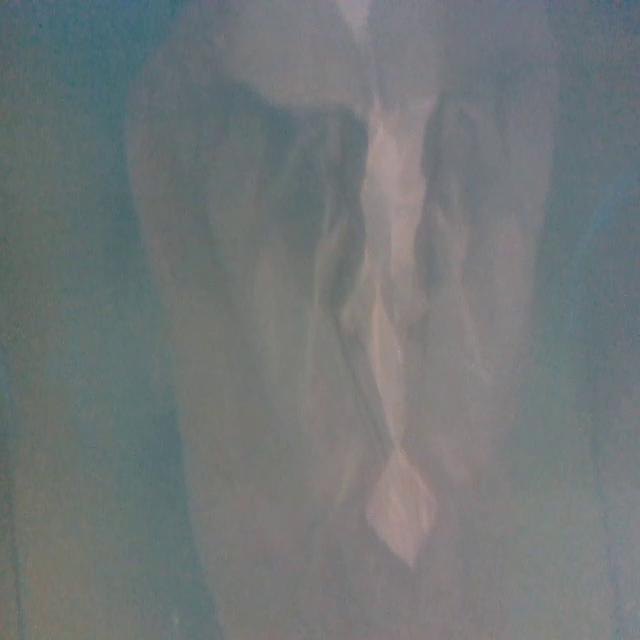plastic bags: (140, 4, 566, 638)
